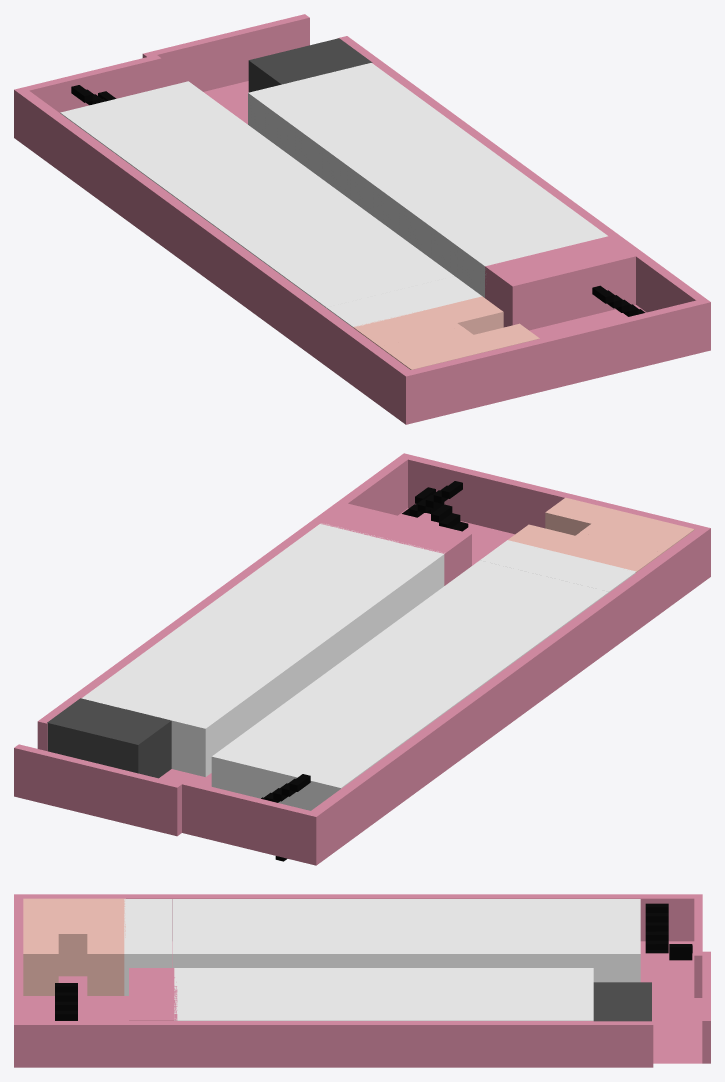
3 views of the same model, one above another, from view 1: azimuth 30°, elevation 25°; view 2: azimuth 150°, elevation 25°; view 3: azimuth 270°, elevation 25° (orthographic). The views are drawn at different scales.
Parts seen in each view (by area): view 1: object, 3616研究室, 3614研究室, 3615研究室, 3617研究室, 3618研究室, 3619研究室, 3613研究室, 3620研究室, 男子トイレ_3_6, 女子トイレ_3_6, 3612研究室 (+13 smaller); view 2: object, エレベーター_3_6, 3611研究室, 3612研究室, 3618研究室, 3616研究室, 3615研究室, 3614研究室, 3613研究室, 3617研究室, 女子トイレ_3_6, 3619研究室 (+14 smaller); view 3: object, 女子トイレ_3_6, 男子トイレ_3_6, 3611研究室, 3601研究室, 3610研究室, 3609研究室, 3602研究室, 3606研究室, 3603研究室, 3608研究室, 3604研究室 (+14 smaller).
Boxes of the visible parts, <box> form: object: <box>14,14,710,424</box>; 3616研究室: <box>351,138,501,220</box>; 3614研究室: <box>297,99,447,180</box>; 3615研究室: <box>324,119,474,200</box>; 3617研究室: <box>379,158,529,239</box>; 3618研究室: <box>405,178,555,259</box>; 3619研究室: <box>433,198,582,278</box>; 3613研究室: <box>271,79,420,160</box>; 3620研究室: <box>459,218,607,297</box>; 男子トイレ_3_6: <box>353,296,503,346</box>; 女子トイレ_3_6: <box>380,323,539,369</box>; 3612研究室: <box>248,63,393,141</box>; object: <box>14,453,710,865</box>; エレベーター_3_6: <box>47,698,171,778</box>; 3611研究室: <box>211,739,364,810</box>; 3612研究室: <box>81,681,228,776</box>; 3618研究室: <box>240,562,391,644</box>; 3616研究室: <box>186,602,337,684</box>; 3615研究室: <box>159,622,309,703</box>; 3614研究室: <box>132,642,283,723</box>; 3613研究室: <box>105,661,255,743</box>; 3617研究室: <box>214,582,364,664</box>; 女子トイレ_3_6: <box>545,497,694,552</box>; 3619研究室: <box>267,543,418,624</box>; object: <box>14,894,710,1067</box>; 女子トイレ_3_6: <box>23,898,78,995</box>; 男子トイレ_3_6: <box>78,898,125,995</box>; 3611研究室: <box>598,899,640,982</box>; 3601研究室: <box>124,899,172,995</box>; 3610研究室: <box>550,899,598,982</box>; 3609研究室: <box>503,899,551,967</box>; 3602研究室: <box>173,899,221,967</box>; 3606研究室: <box>361,899,409,967</box>; 3603研究室: <box>220,899,268,967</box>; 3608研究室: <box>455,899,503,967</box>; 3604研究室: <box>267,899,315,967</box>.
Bounding box in the file's own units: 1.13 × 0.233 × 2.55.
